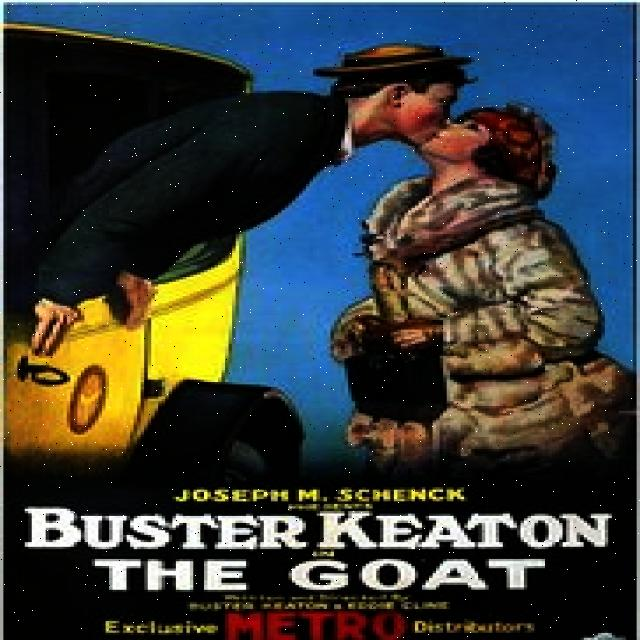movie-judul: (32, 493, 622, 606)
picture: (0, 40, 622, 441)
